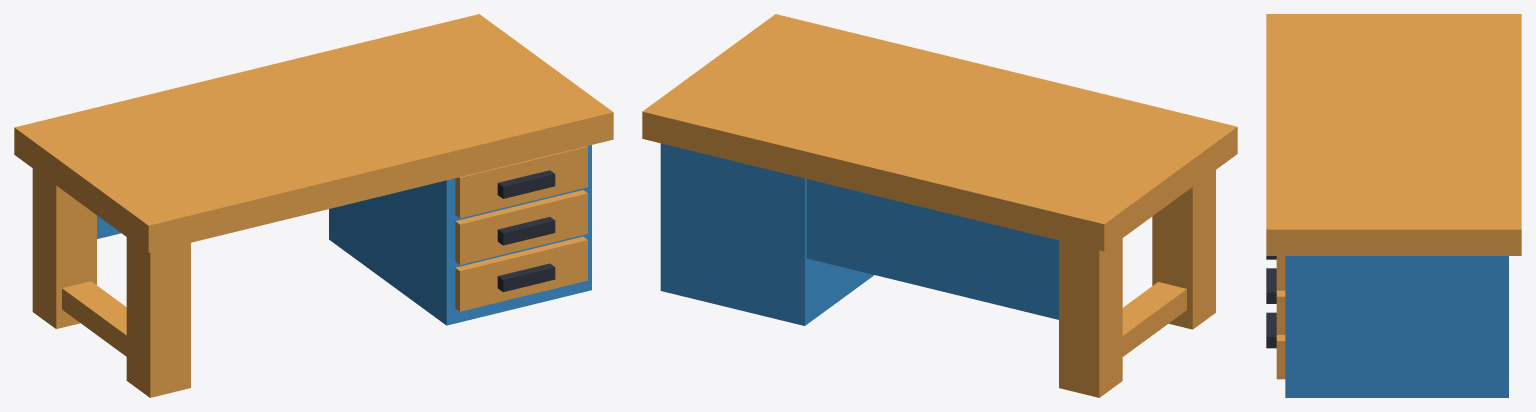
The model's file is office_desk.glb.
3 renders of one model, left to right at view 1: azimuth 30°, elevation 25°; view 2: azimuth 150°, elevation 25°; view 3: azimuth 270°, elevation 25°, orthographic. The views are drawn at different scales.
Visible parts, largest first — view 1: office_desk; view 2: office_desk; view 3: office_desk.
Boxes of the visible parts, x1,y1,x2,y2 form: office_desk: (14, 14, 613, 397); office_desk: (642, 14, 1237, 397); office_desk: (1266, 14, 1521, 397).
Size of the model in its own units: 8 by 3 by 4.
